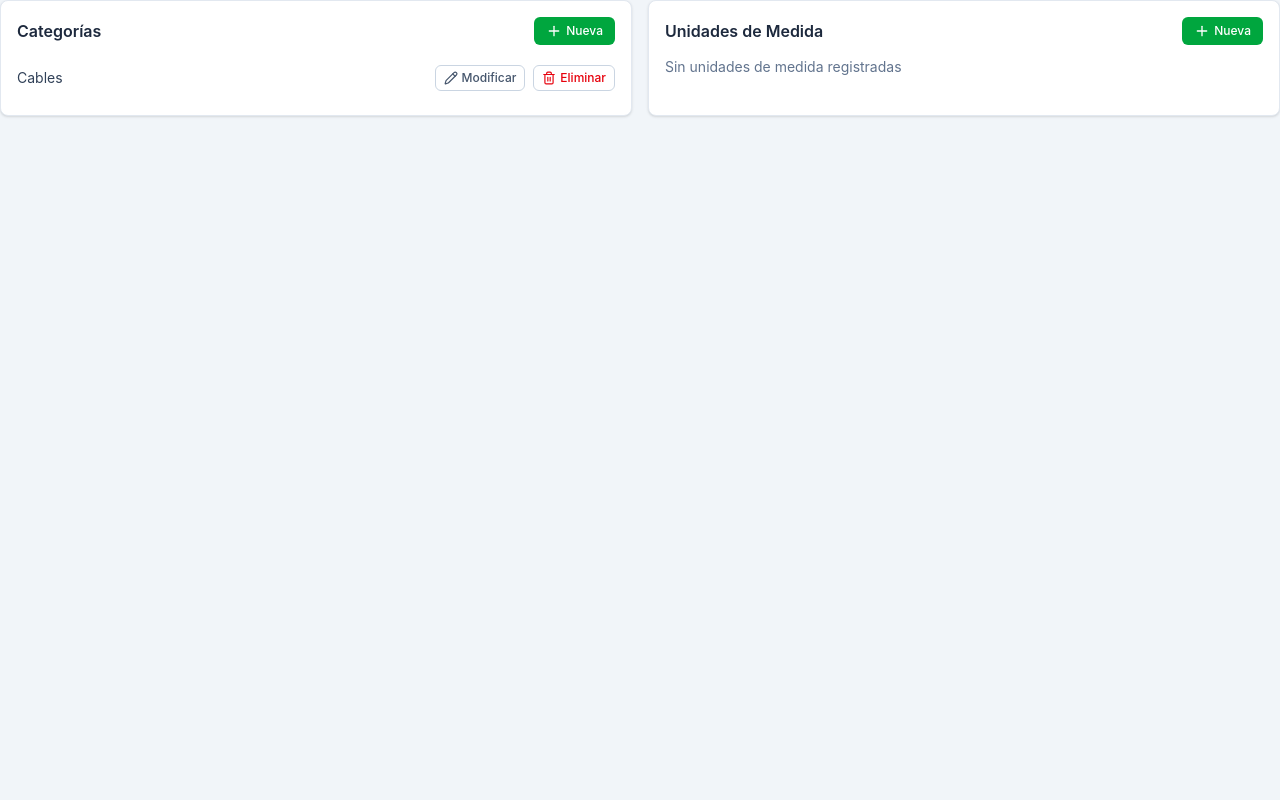
Test case: CatalogManagementPanel › Eliminar abre el ConfirmDialog con mensaje de soft-delete
This screenshot has width=1280, height=800.
Click the button with aria-label "Eliminar categoría Cables".
click(574, 78)  # box top-left (533, 65), bottom-right (615, 91)
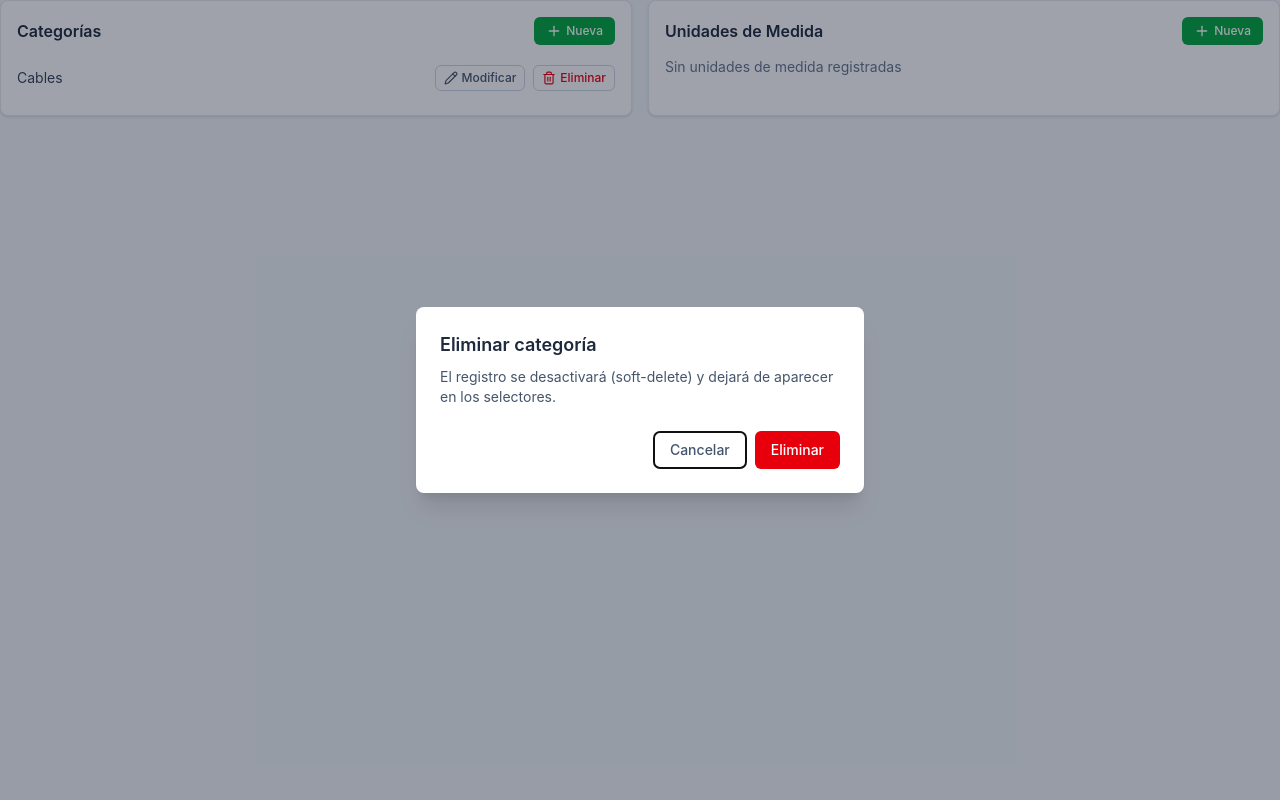
Check: the heading "Eliminar categoría" is shown, box top-left (440, 334), bottom-right (597, 355)
Check: the text "soft-delete" is shown, box top-left (440, 368), bottom-right (833, 405)
